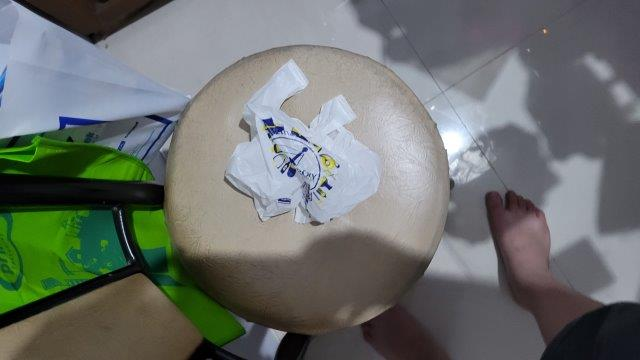plastik: (225, 61, 382, 225)
